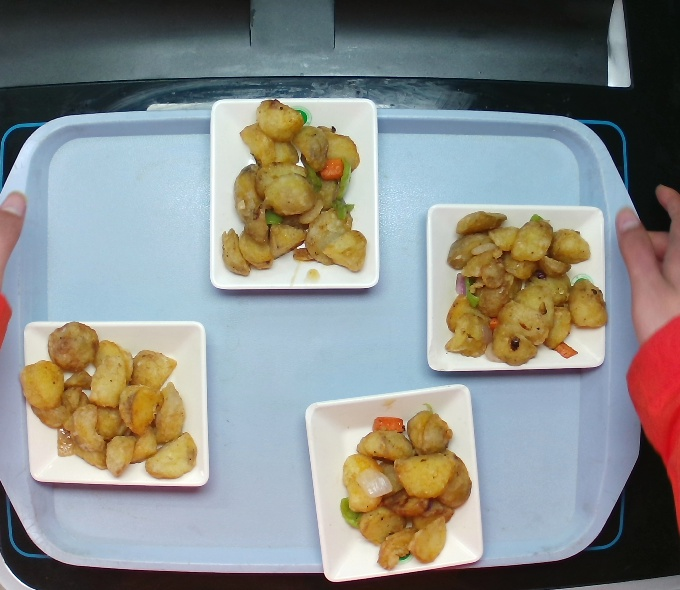wcq-TuDouZai: (23, 310, 196, 491), (440, 206, 597, 367), (225, 101, 358, 279), (344, 412, 466, 557)
